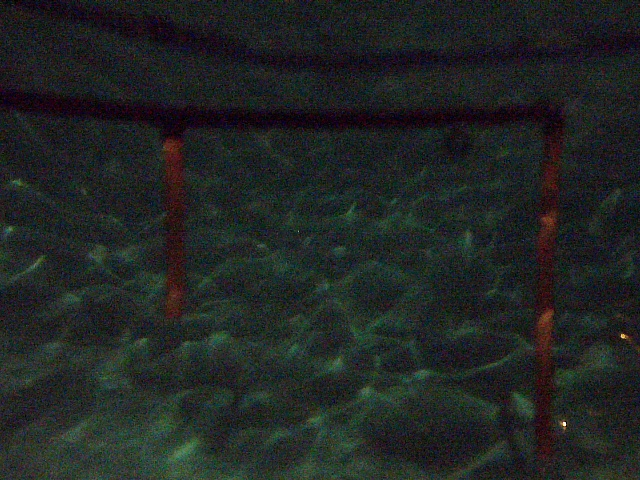Gate: (532, 125, 564, 432), (156, 130, 192, 319)
